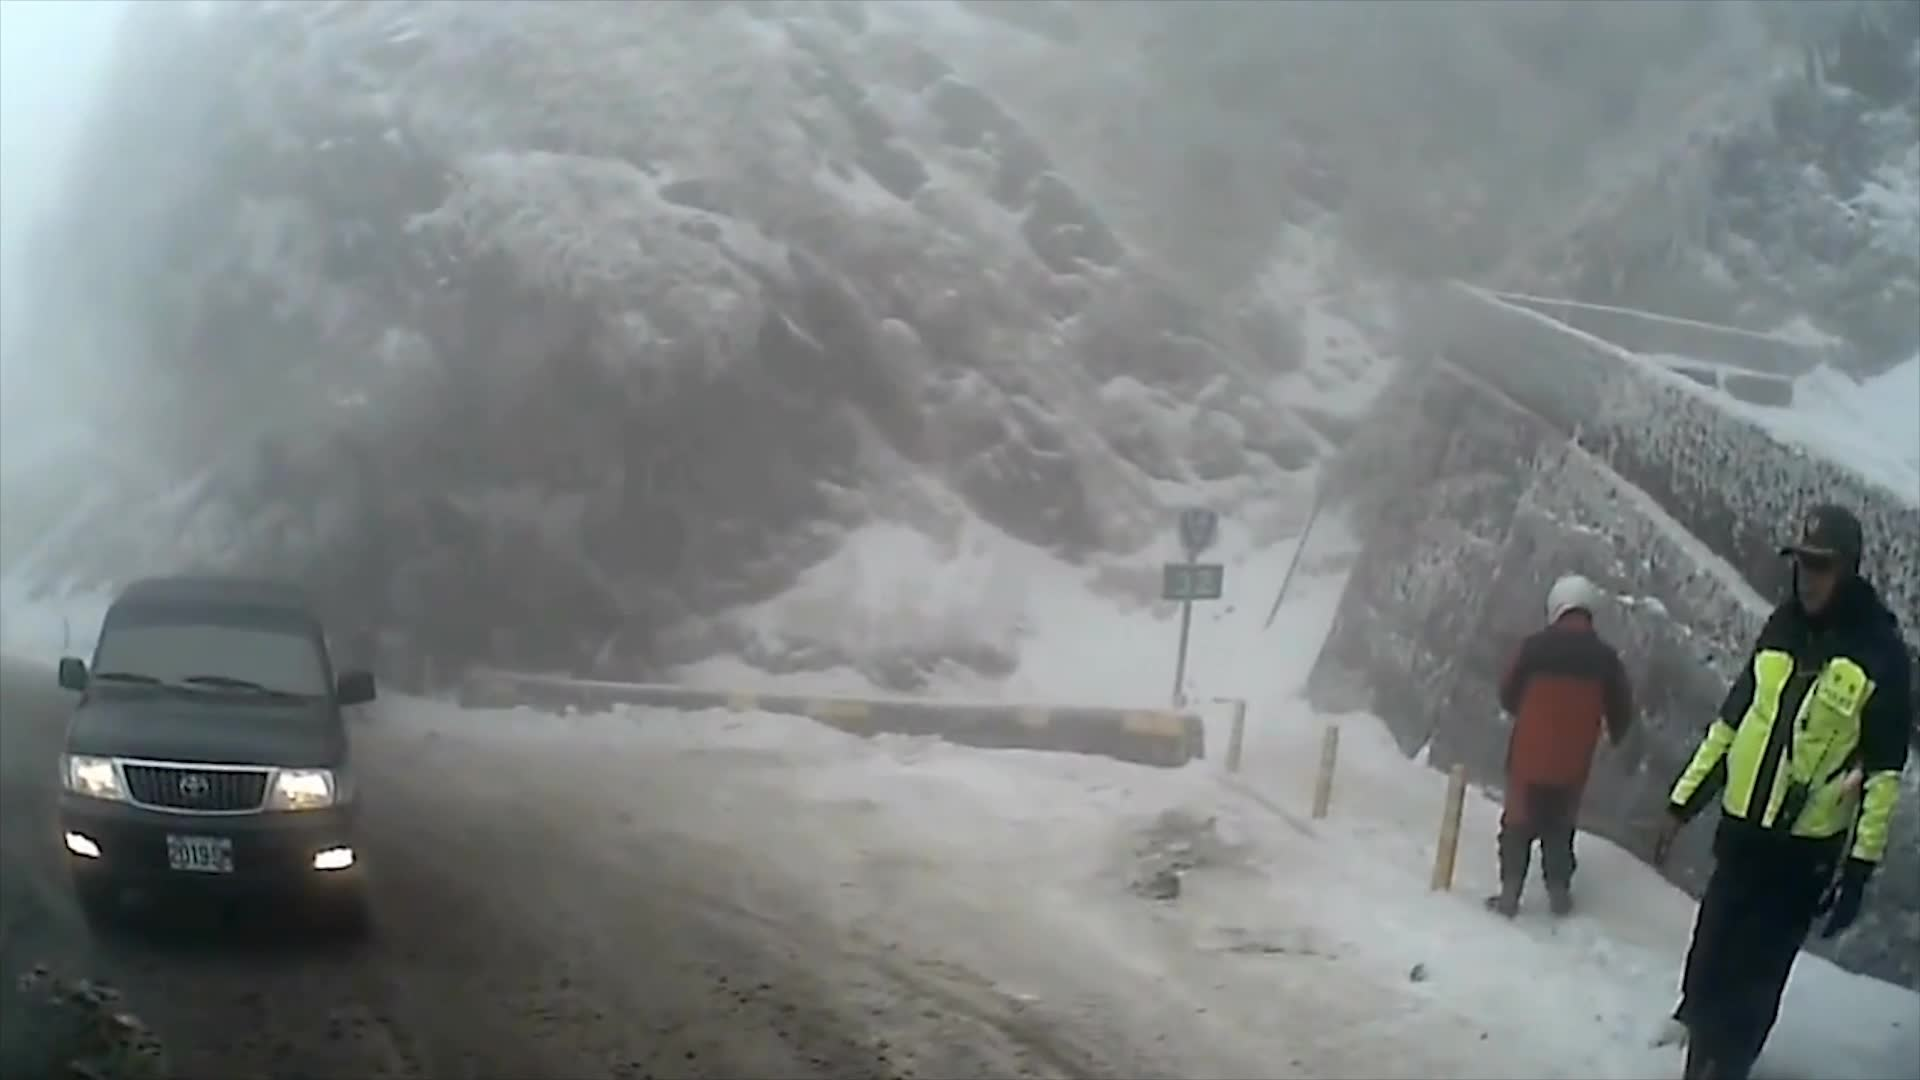pedestrian: (1634, 515, 1911, 1080), (1481, 563, 1638, 920)
vehicle: (54, 573, 376, 943)
